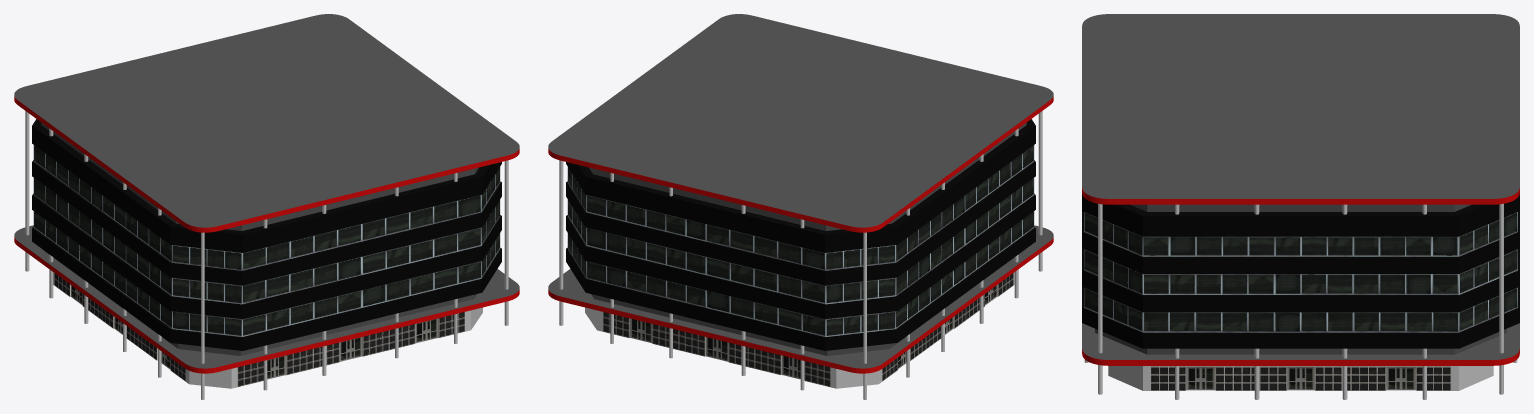
3 renders of one model, left to right at view 1: azimuth 30°, elevation 25°; view 2: azimuth 150°, elevation 25°; view 3: azimuth 270°, elevation 25°, orthographic. The views are drawn at different scales.
Visible parts, largest first — view 1: QD-15; view 2: QD-15; view 3: QD-15.
Part boxes in pixels (x1,y1,x2,y2): QD-15: [14, 14, 519, 399]; QD-15: [548, 14, 1053, 399]; QD-15: [1082, 14, 1519, 399].
Size of what is drawn, in the model's own units: 41.25 by 21.06 by 41.25.
